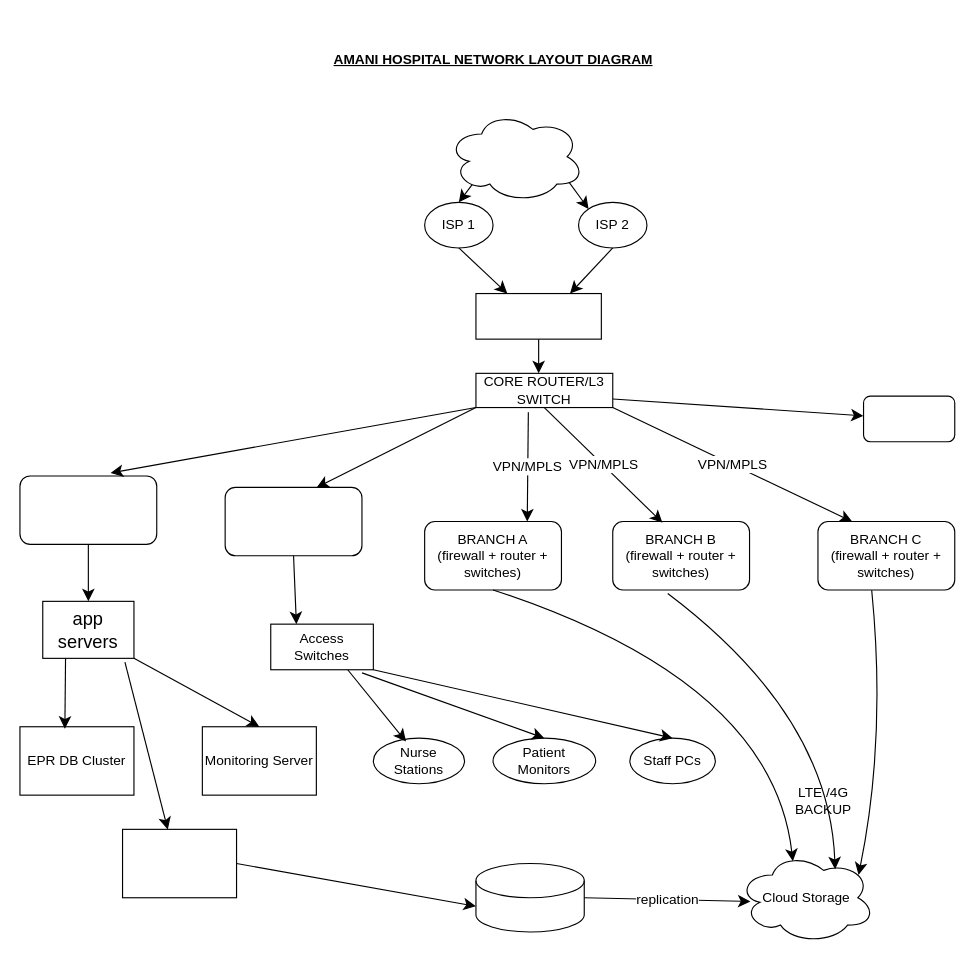
The diagram is 975 pixels wide and 963 high, and some of its shapes have lost their labels. Here are the shapes that lost their labels. From the top down, the box of each, then its label:
(446, 110, 584, 202): INTERNET
(475, 292, 601, 339): EDGE FIREWALLS (HA)
(862, 395, 955, 442): SIEM
(19, 475, 157, 544): LOAD BALANCER
(224, 486, 362, 556): DISTRIBUTION SWITCHES
(121, 828, 237, 898): Pharmacy Server
(475, 862, 584, 932): SAN/NAS Storage
